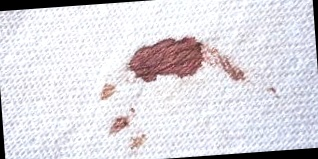blood: (127, 36, 210, 82), (108, 112, 133, 134)
